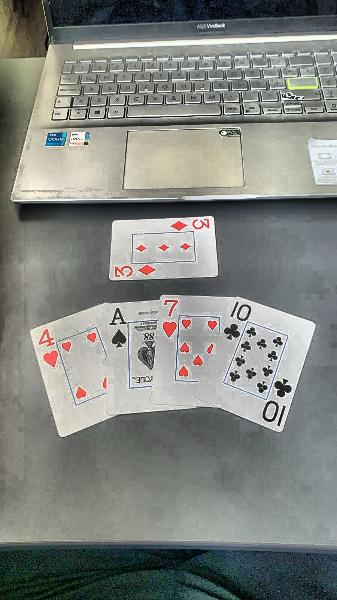10T: (258, 375, 296, 428), (221, 300, 253, 342)
3D: (114, 263, 160, 281), (170, 216, 213, 234)
4C: (36, 325, 60, 371)
7C: (160, 298, 182, 340)
AP: (108, 305, 130, 350)
